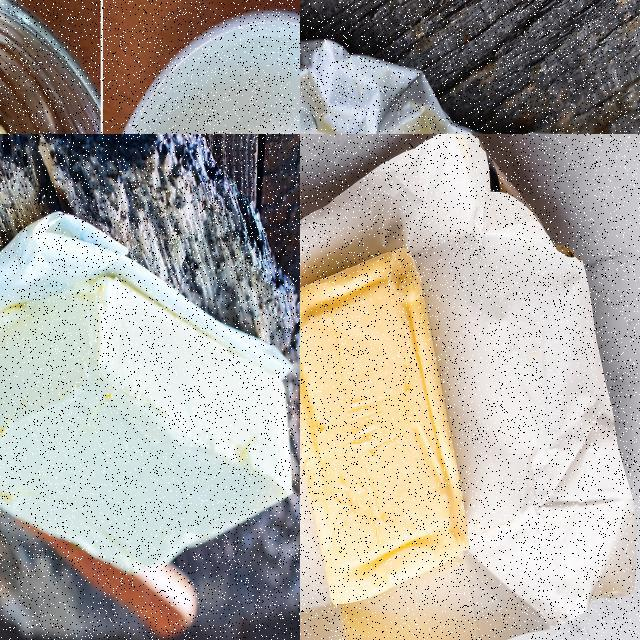Butter: (0, 277, 293, 577), (300, 239, 472, 620)
